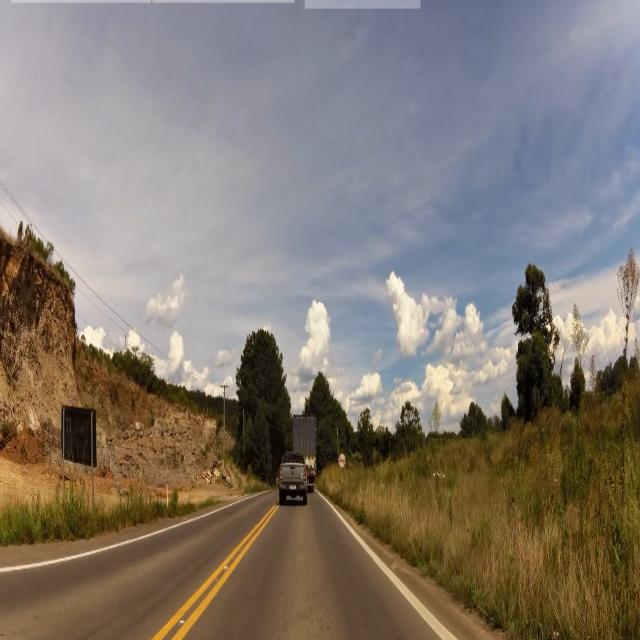R-19: (337, 450, 346, 469)
